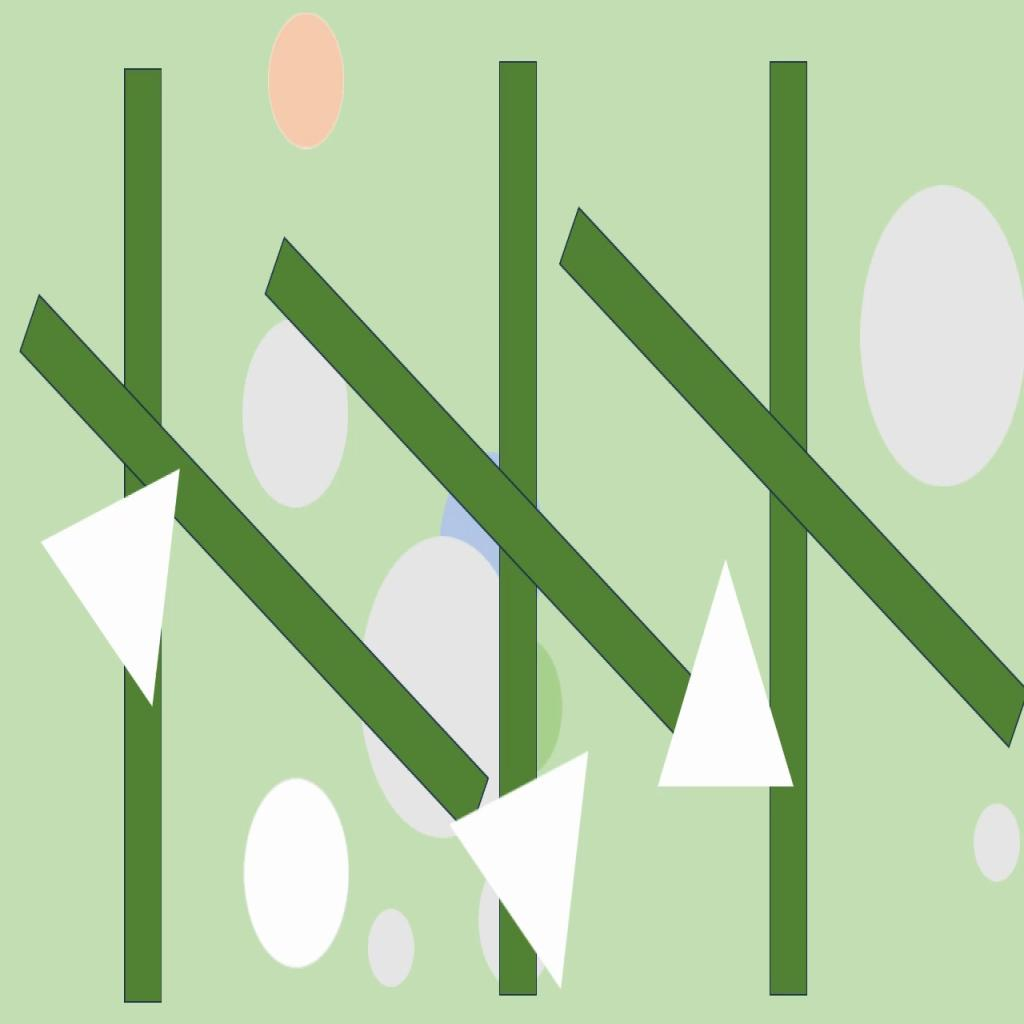Circle: (861, 180, 1024, 486), (358, 533, 513, 836), (242, 310, 352, 508), (243, 772, 350, 967), (441, 452, 535, 631), (479, 640, 565, 779), (268, 10, 344, 150), (476, 867, 552, 985), (973, 800, 1019, 884), (368, 905, 415, 987)
